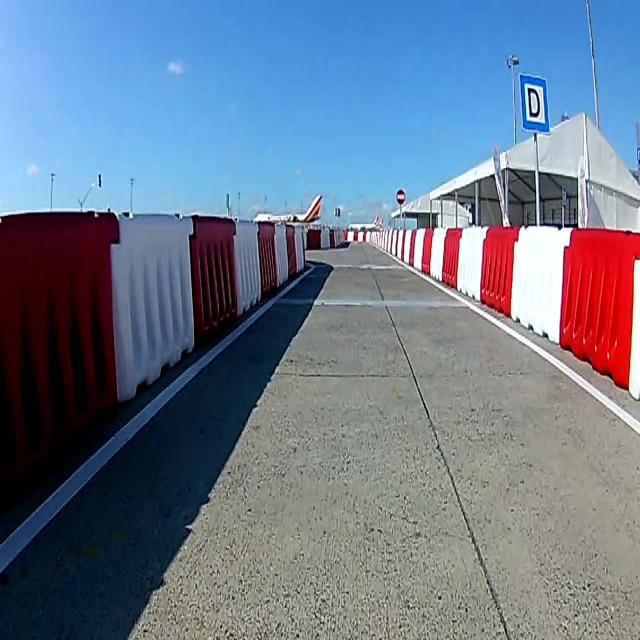durak: (519, 72, 550, 135)
girisyok: (396, 188, 406, 205)
